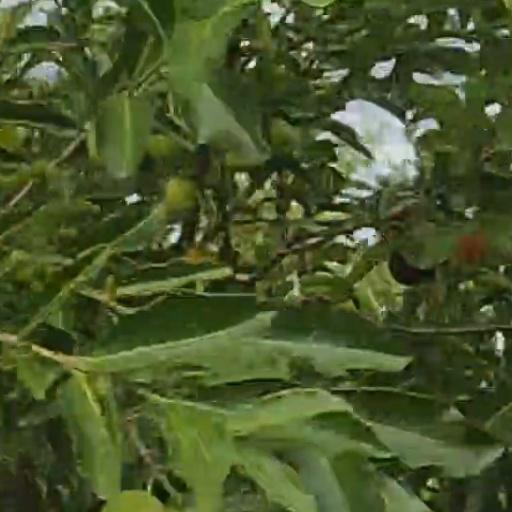acerola: (452, 234, 485, 264)
